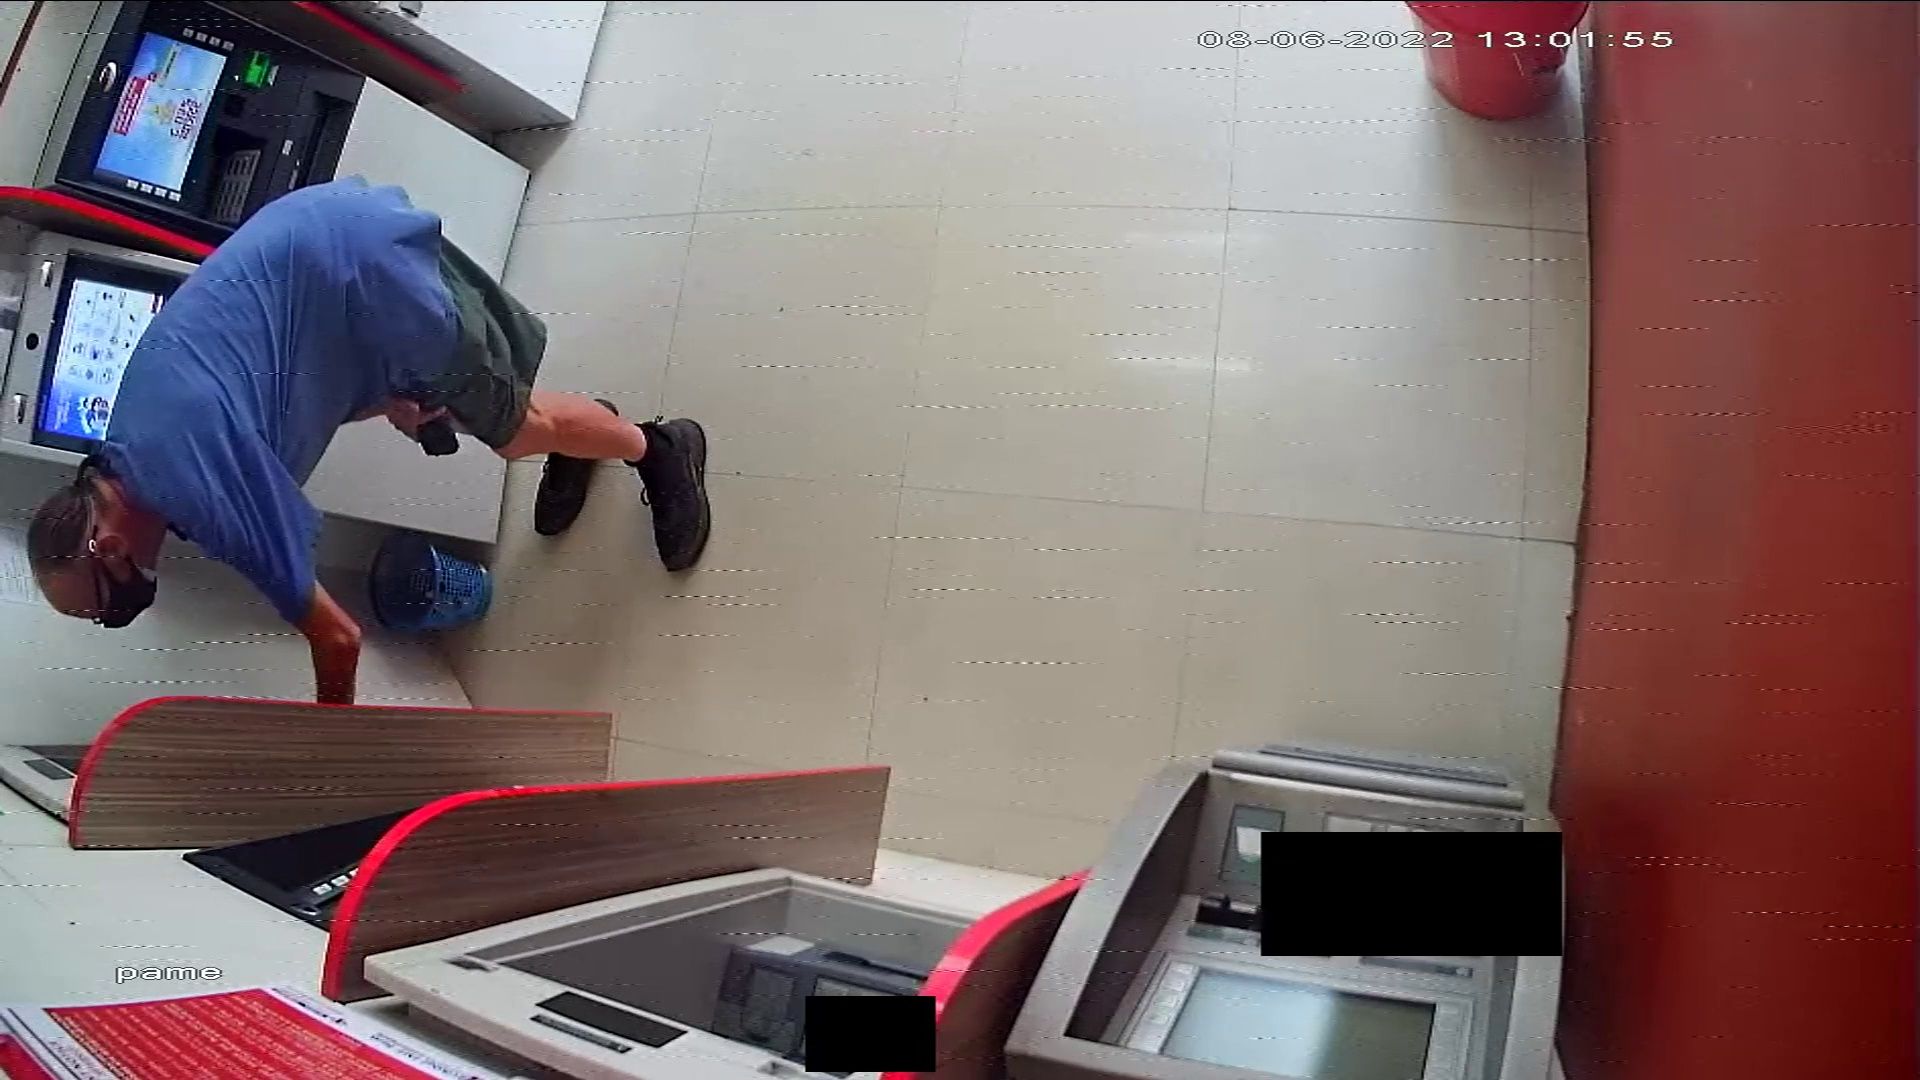person: (28, 173, 710, 703)
